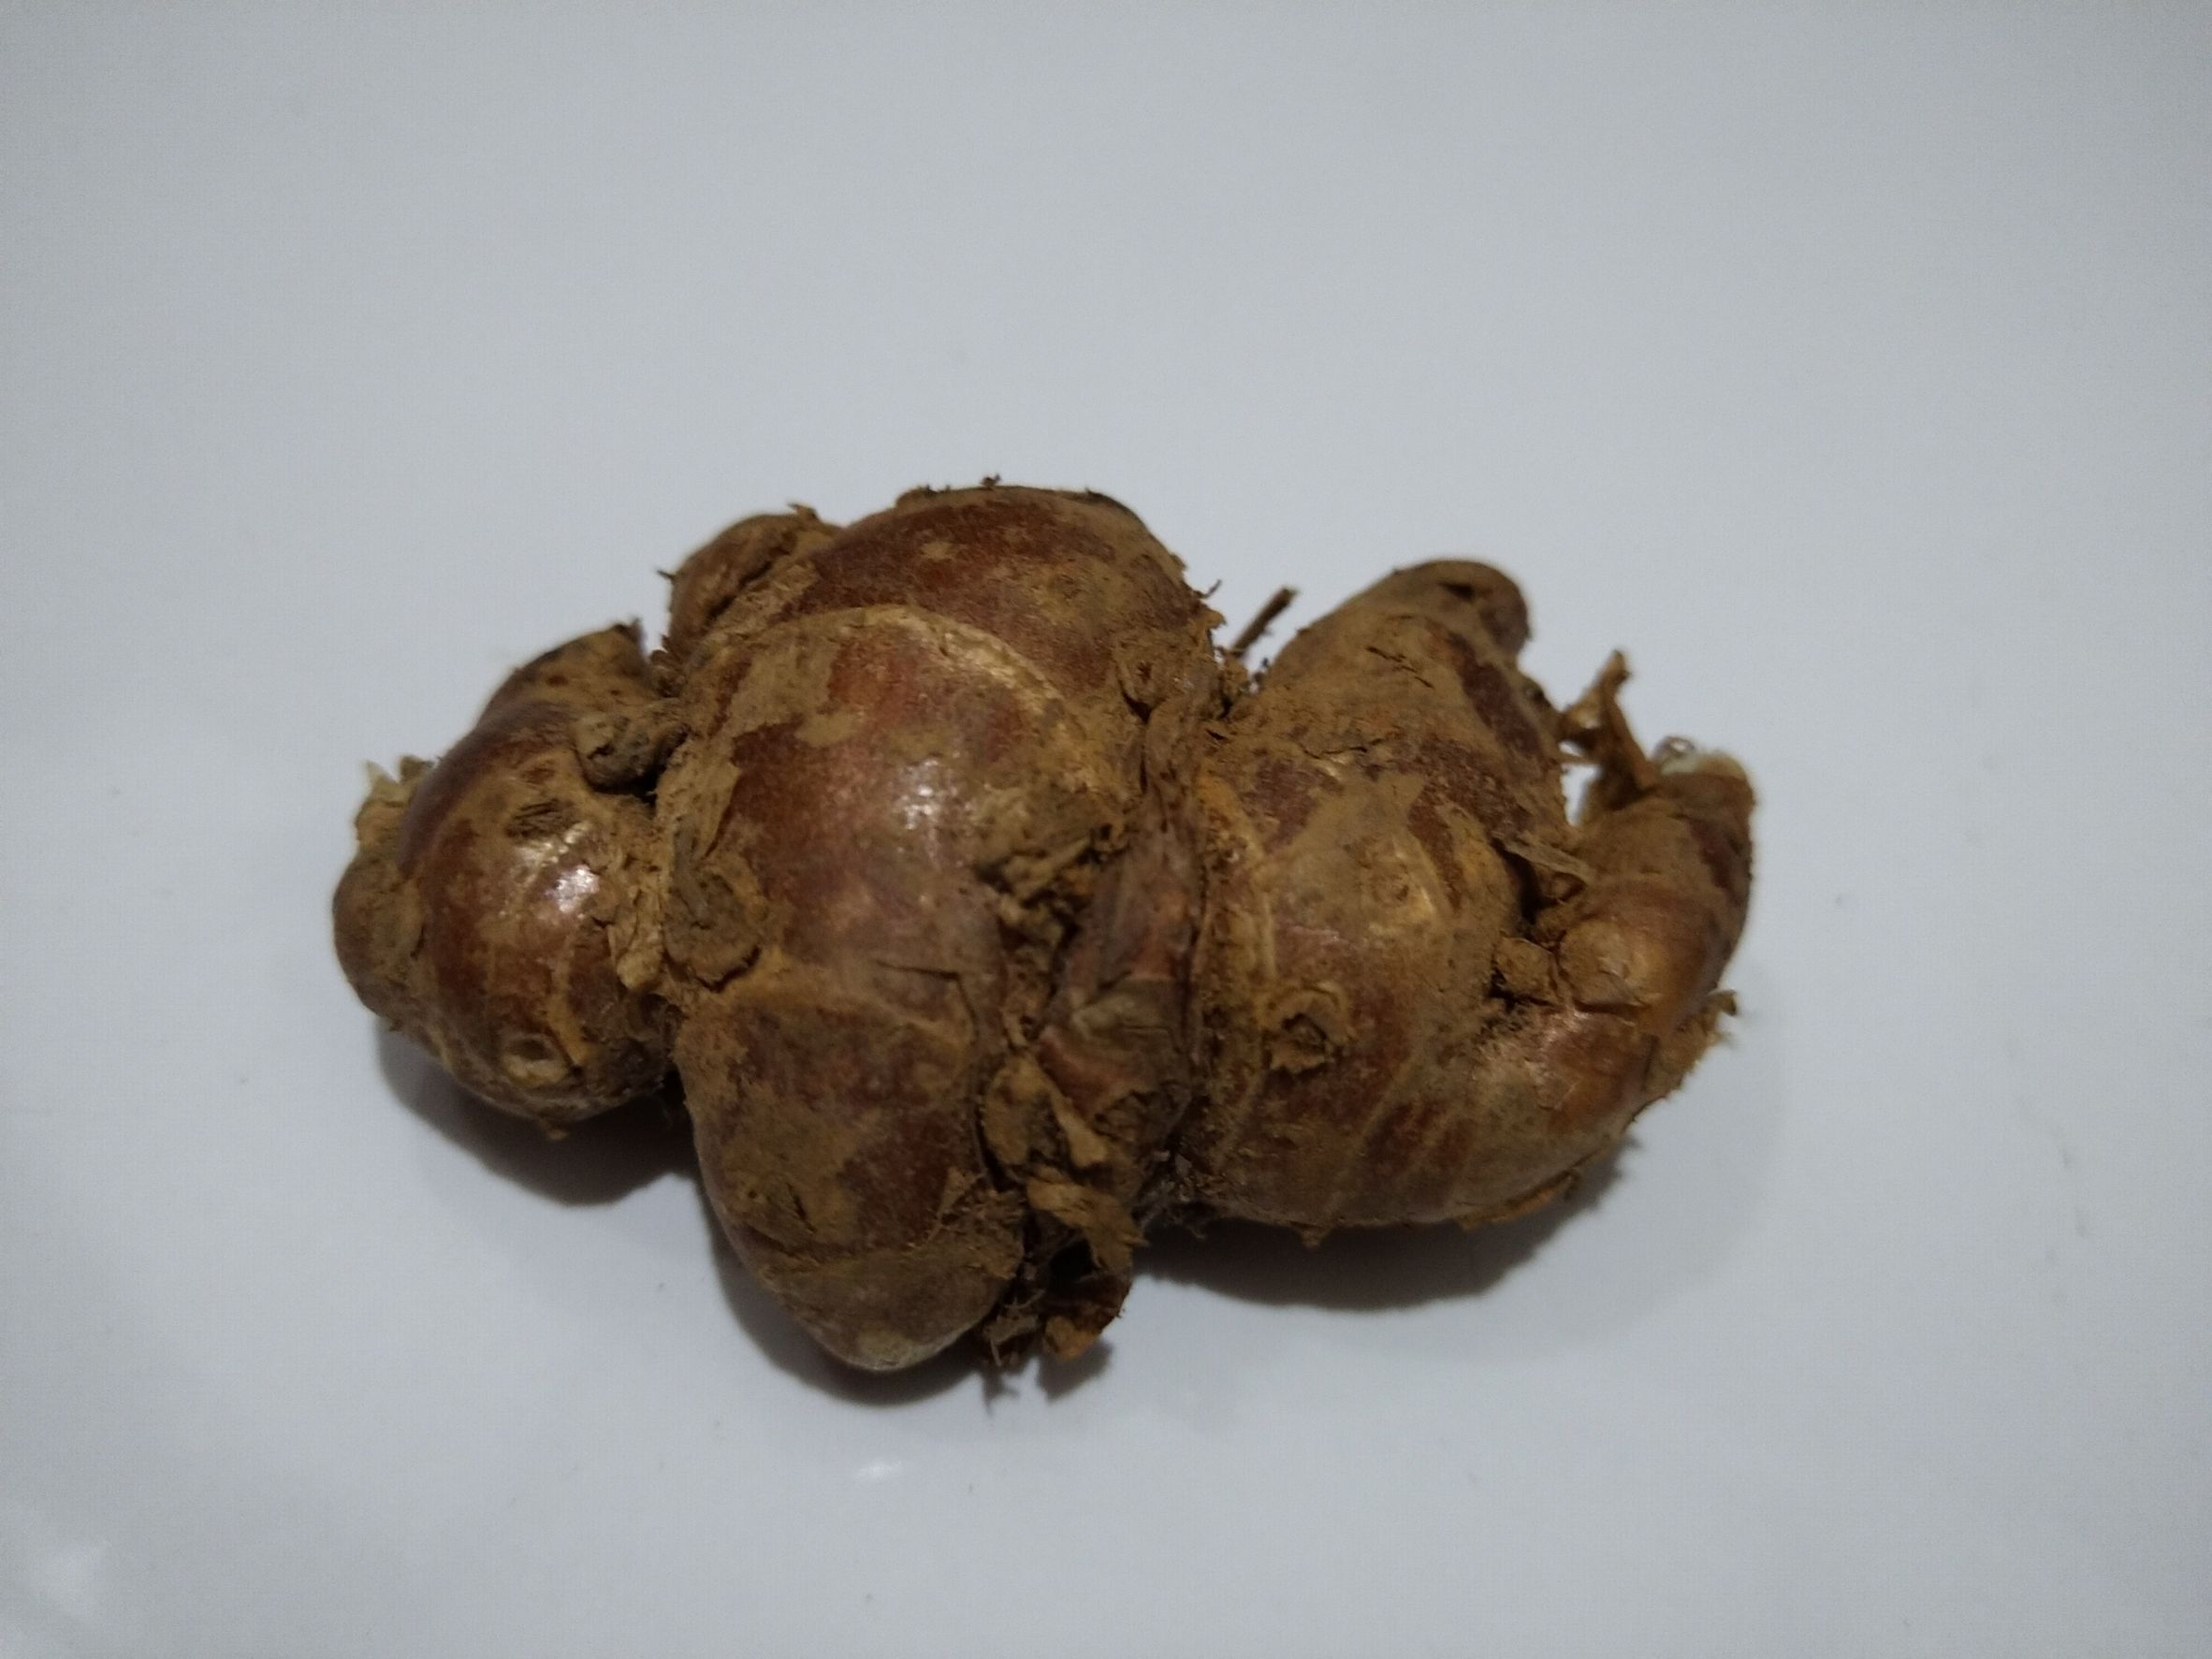Kencur: (331, 479, 1743, 1403)
